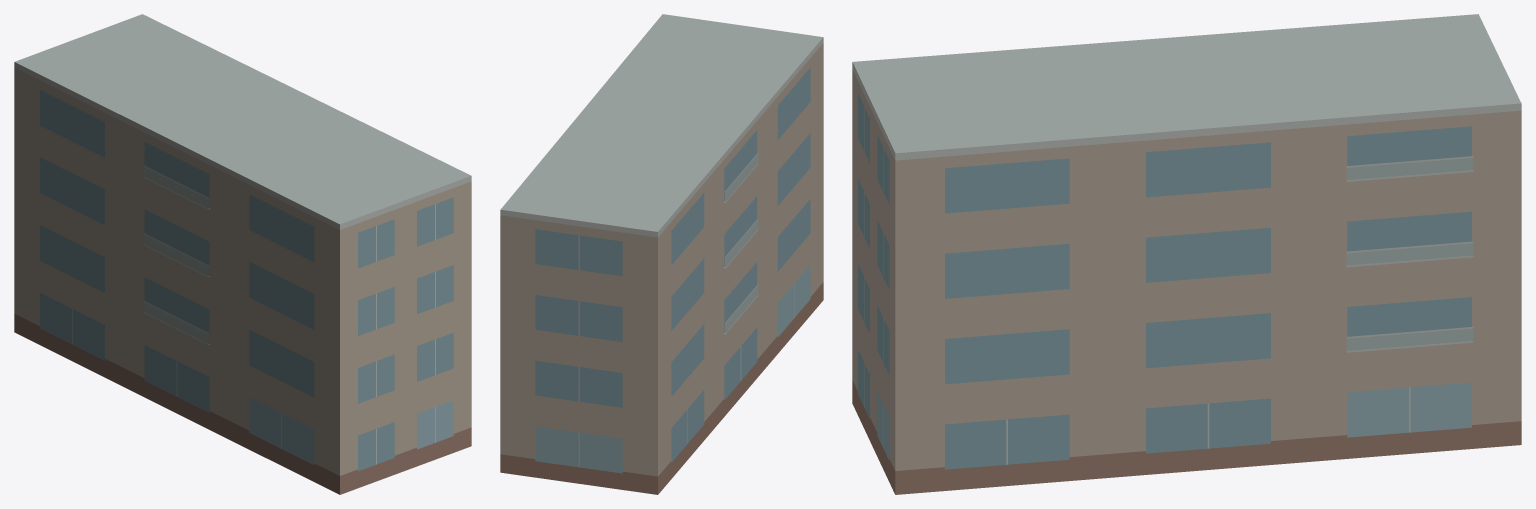
Rendered from survey-upis-32989259.glb.
The picture shows the model from 3 angles, left to right: view 1: azimuth 30°, elevation 25°; view 2: azimuth 150°, elevation 25°; view 3: azimuth 270°, elevation 25°; orthographic projection. The views are drawn at different scales.
Visible parts, largest first — view 1: survey-upis-32989259.tmp; view 2: survey-upis-32989259.tmp; view 3: survey-upis-32989259.tmp.
Part boxes in pixels (x1,y1,x2,y2): survey-upis-32989259.tmp: (14, 14, 471, 494); survey-upis-32989259.tmp: (500, 14, 823, 494); survey-upis-32989259.tmp: (852, 14, 1521, 494).
Size of the model in its own units: 10.16 by 11.6 by 20.61.
